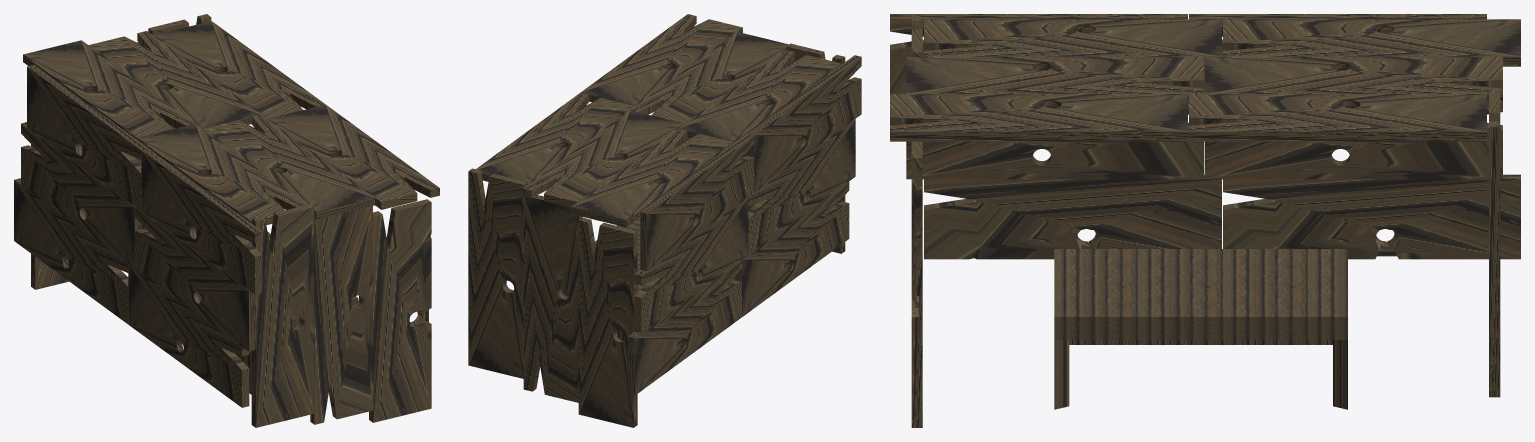
Rendered from busstop.obj.
The picture shows the model from 3 angles, left to right: view 1: azimuth 30°, elevation 25°; view 2: azimuth 150°, elevation 25°; view 3: azimuth 270°, elevation 25°; orthographic projection. The views are drawn at different scales.
Visible parts, largest first — view 1: Cube.018_Cube.028, Cube.018_Cube.003, Cube.018_Cube.004, Cube.018_Cube.001, Cube.018_Cube.002, Cube.018_Cube.000; view 2: Cube.018_Cube.000, Cube.018_Cube.004, Cube.018_Cube.003, Cube.018_Cube.002, Cube.018_Cube.001, Cube.018_Cube.028, Cube_Cube.026; view 3: Cube.018_Cube.002, Cube.018_Cube.001, Cube.018_Cube.003, Cube.018_Cube.004, Cube_Cube.026, Cube.018_Cube.028, Cube.018_Cube.000.
Part boxes in pixels (<box>): Cube.018_Cube.028: <box>251,199,431,427</box>; Cube.018_Cube.003: <box>128,148,262,407</box>; Cube.018_Cube.004: <box>14,65,147,323</box>; Cube.018_Cube.001: <box>137,104,439,225</box>; Cube.018_Cube.002: <box>23,21,325,139</box>; Cube.018_Cube.000: <box>31,14,211,289</box>; Cube.018_Cube.000: <box>468,168,637,427</box>; Cube.018_Cube.004: <box>628,133,754,395</box>; Cube.018_Cube.003: <box>735,55,861,316</box>; Cube.018_Cube.002: <box>476,92,733,227</box>; Cube.018_Cube.001: <box>581,14,840,143</box>; Cube.018_Cube.028: <box>685,43,845,253</box>; Cube_Cube.026: <box>561,217,735,340</box>; Cube.018_Cube.002: <box>1189,19,1520,141</box>; Cube.018_Cube.001: <box>890,19,1221,141</box>; Cube.018_Cube.003: <box>890,14,1221,259</box>; Cube.018_Cube.004: <box>1189,14,1520,259</box>; Cube_Cube.026: <box>1054,249,1347,409</box>; Cube.018_Cube.028: <box>911,15,922,427</box>; Cube.018_Cube.000: <box>1489,90,1500,397</box>.
Size of the model in its own units: 2.84 by 3.37 by 6.41.
